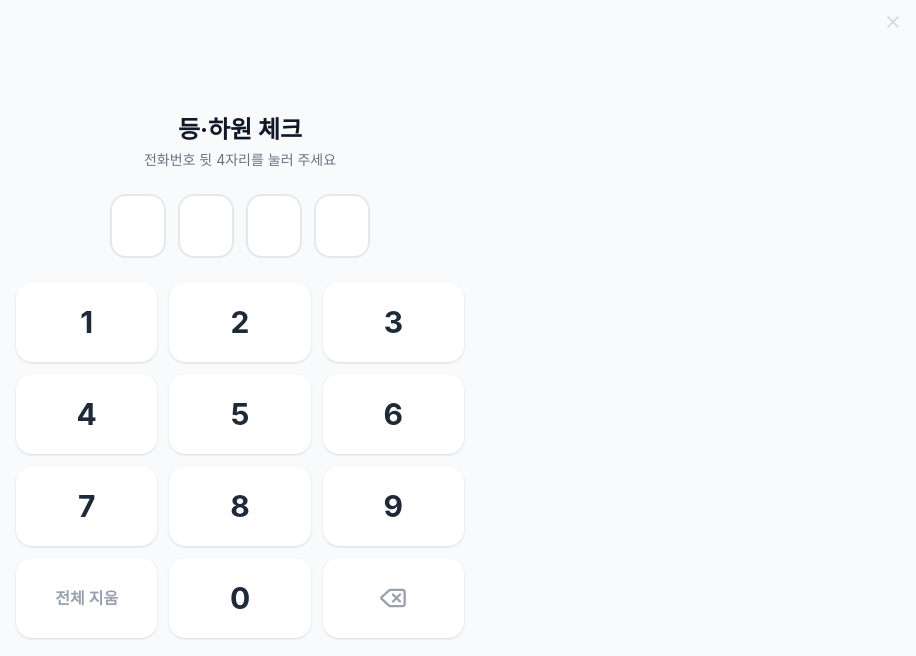
KioskPage › 등원 완료 학생은 등원 버튼이 비활성, 하원 버튼이 활성이다
Click the button "6" at (393,414), box [323,374,464,454]
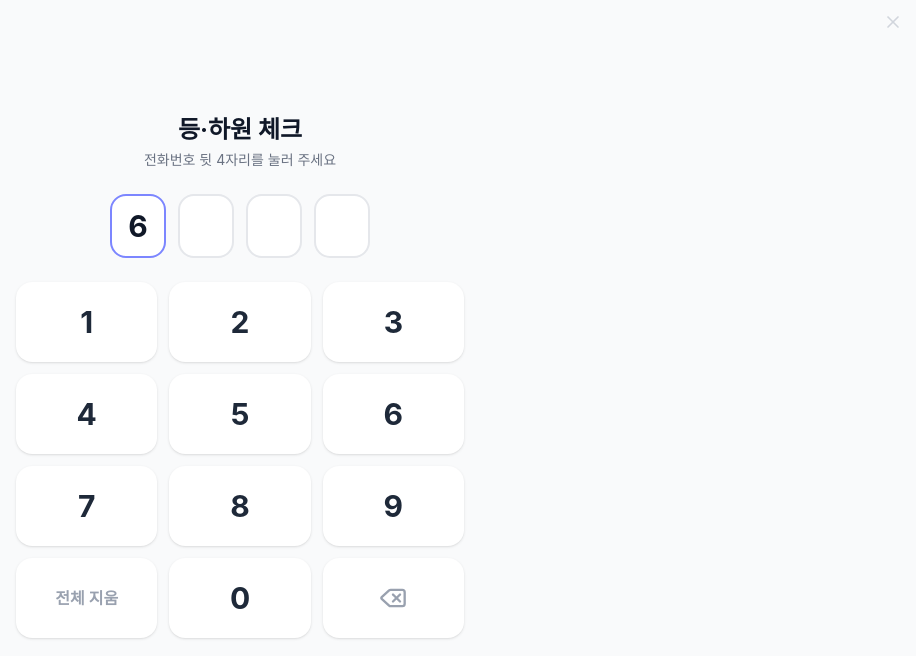
Click the button "9" at (393,506), box [323,466,464,546]
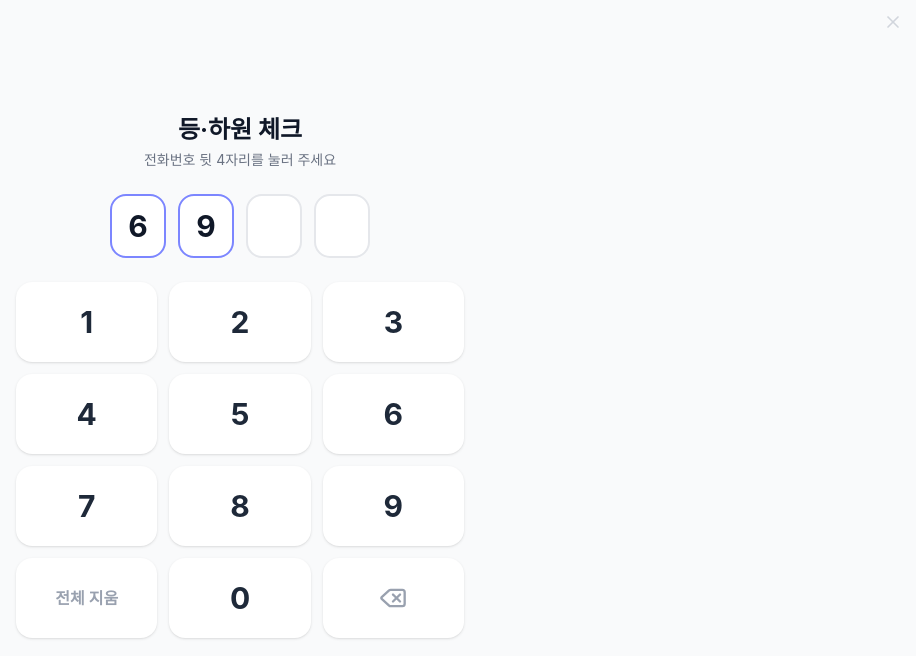
Click the button "2" at (240,322), box [169,282,311,362]
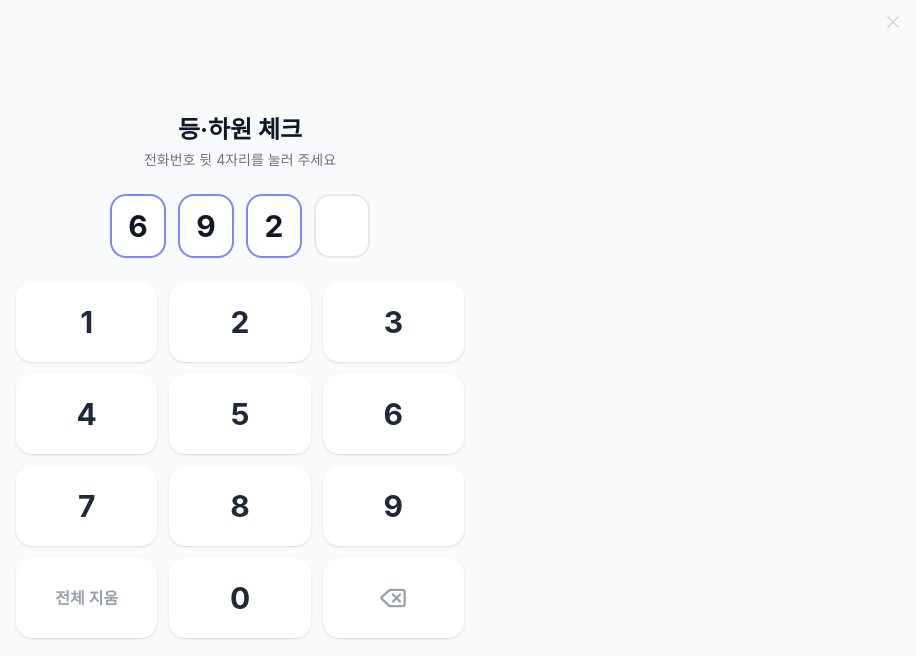
Click the button "0" at (240,598), box [169,558,311,638]
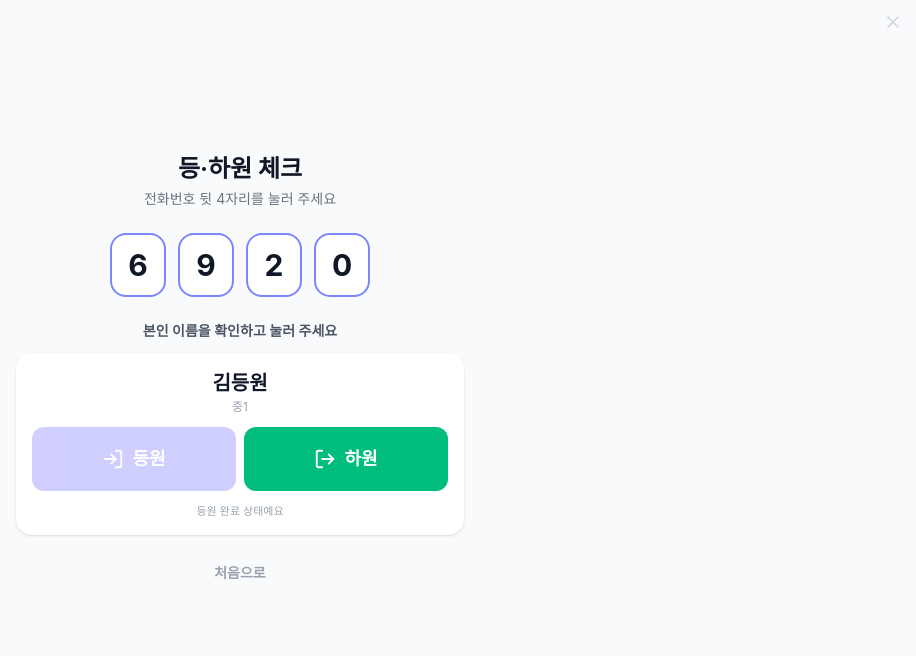
Expected: the button "등원" is disabled, [32,427,236,491]
Expected: the button "하원" is enabled
Click the button "하원" at (346,459), box [244,427,448,491]
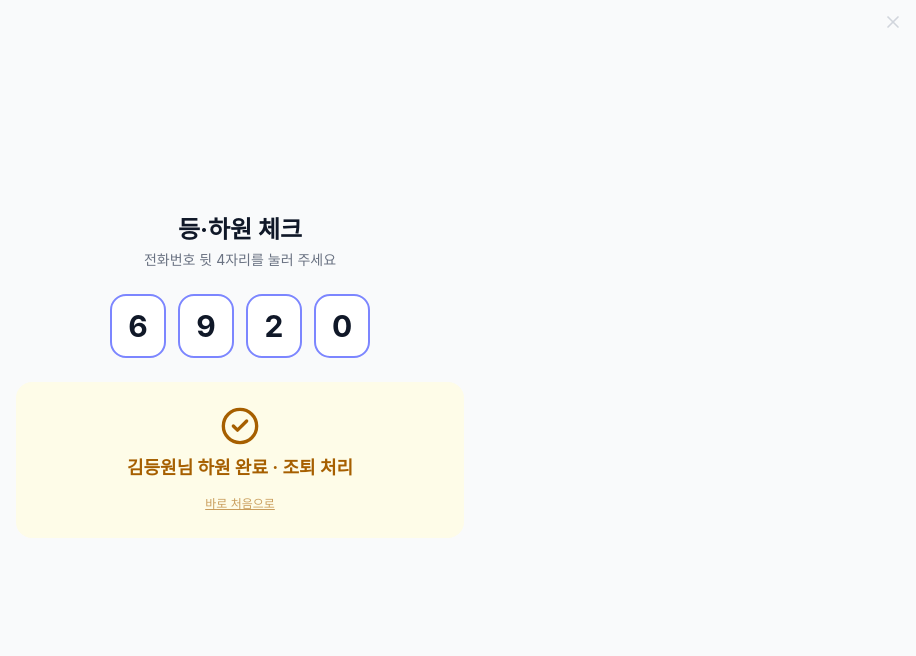
Expected: the text "김등원님 하원 완료 · 조퇴 처리" is shown, [127,457,353,478]
